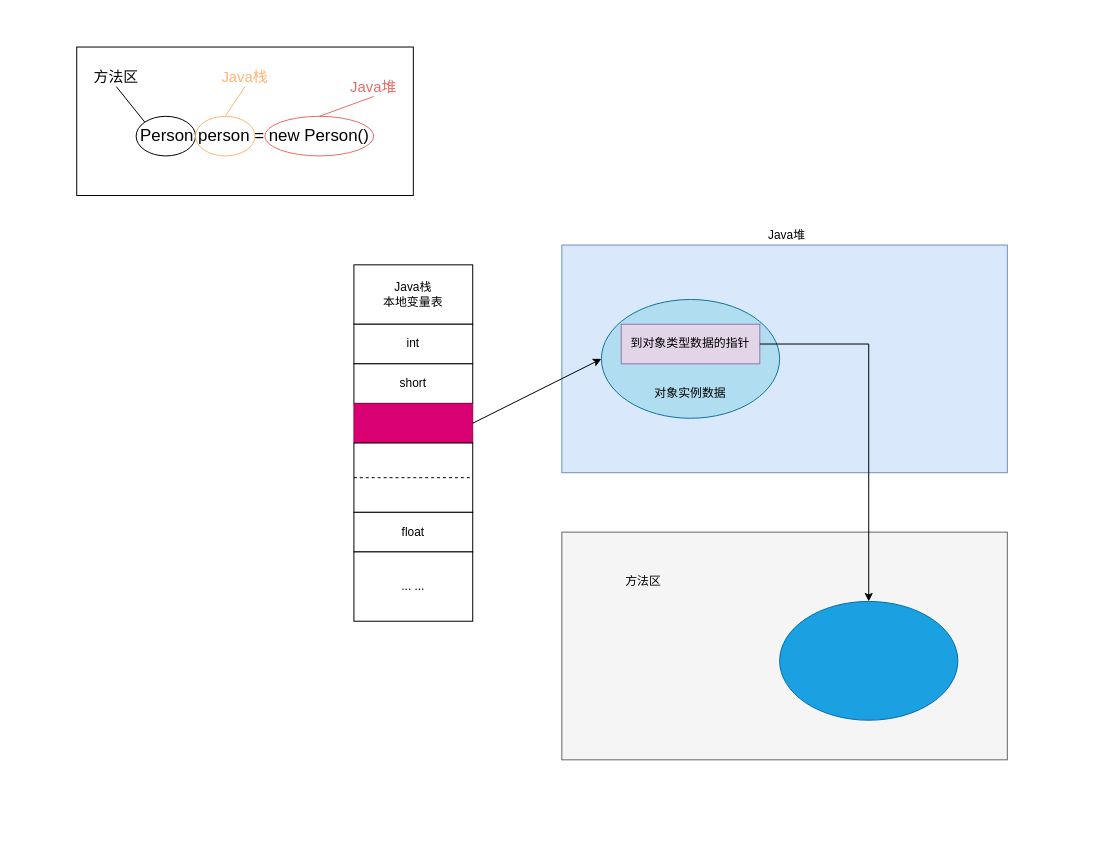
Some shapes in this 1113 by 845 pixel diagram are drawn without their labels. The shapes that lost their labels are listed below. From the top down, each one's centre as x and y in pixels, then its label:
(413,422): reference
(413,477): double
(868,660): 对象类型数据
